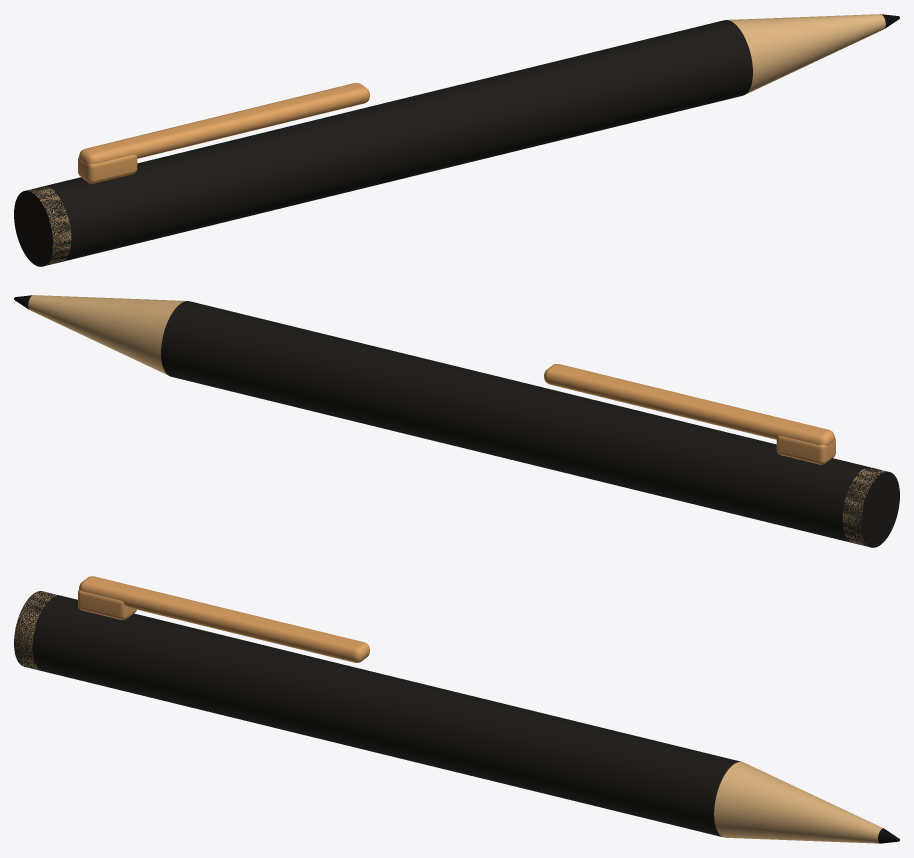
Rendered from pen.glb.
3 renders of one model, top to bottom at view 1: azimuth 30°, elevation 25°; view 2: azimuth 150°, elevation 25°; view 3: azimuth 330°, elevation 25°, orthographic.
Visible parts, largest first — view 1: Pen_Barrel, Pen_Clip, Pen_Taper, Pen_ClipBridge, Pen_EndCap; view 2: Pen_Barrel, Pen_Clip, Pen_Taper, Pen_ClipBridge, Pen_EndCap; view 3: Pen_Barrel, Pen_Taper, Pen_Clip, Pen_EndCap, Pen_ClipBridge.
Boxes of the visible parts, left/top/right/bottom form: Pen_Barrel: left=14, top=20, right=752, bottom=266; Pen_Clip: left=79, top=83, right=369, bottom=164; Pen_Taper: left=728, top=14, right=885, bottom=93; Pen_ClipBridge: left=78, top=154, right=137, bottom=183; Pen_EndCap: left=28, top=187, right=71, bottom=265; Pen_Barrel: left=161, top=301, right=899, bottom=547; Pen_Clip: left=544, top=364, right=834, bottom=445; Pen_Taper: left=28, top=295, right=185, bottom=374; Pen_ClipBridge: left=776, top=435, right=835, bottom=464; Pen_EndCap: left=842, top=468, right=888, bottom=546; Pen_Barrel: left=14, top=591, right=741, bottom=836; Pen_Taper: left=714, top=761, right=882, bottom=843; Pen_Clip: left=79, top=576, right=369, bottom=662; Pen_EndCap: left=14, top=591, right=57, bottom=669; Pen_ClipBridge: left=78, top=589, right=136, bottom=619.
Size of the model in its own units: 0.14 by 0.0153 by 0.0109.
